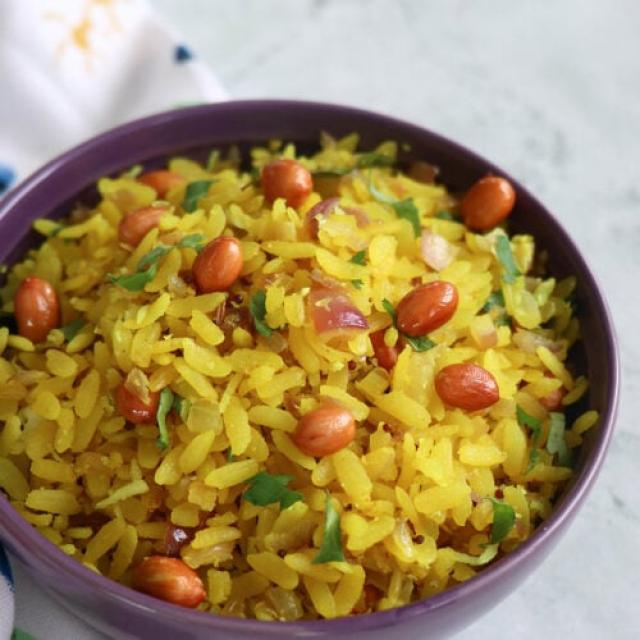POHA: (0, 133, 593, 613)
